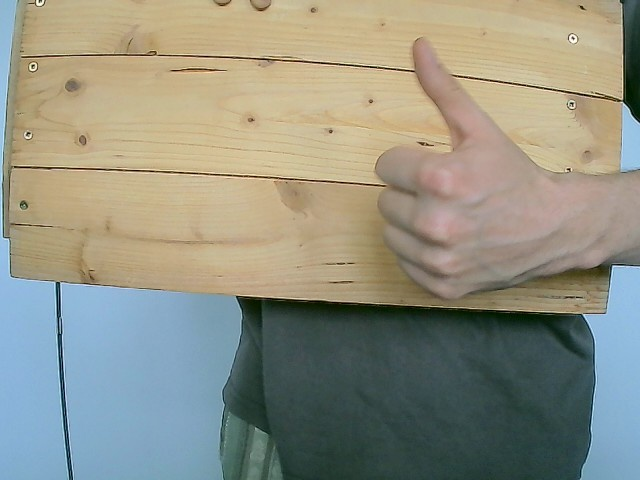up: (373, 35, 561, 301)
